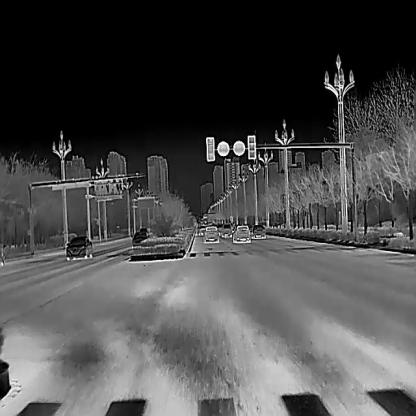car: (65, 235, 92, 260), (131, 227, 150, 247), (232, 224, 251, 242), (202, 225, 219, 242), (251, 224, 265, 238), (219, 222, 232, 236)
